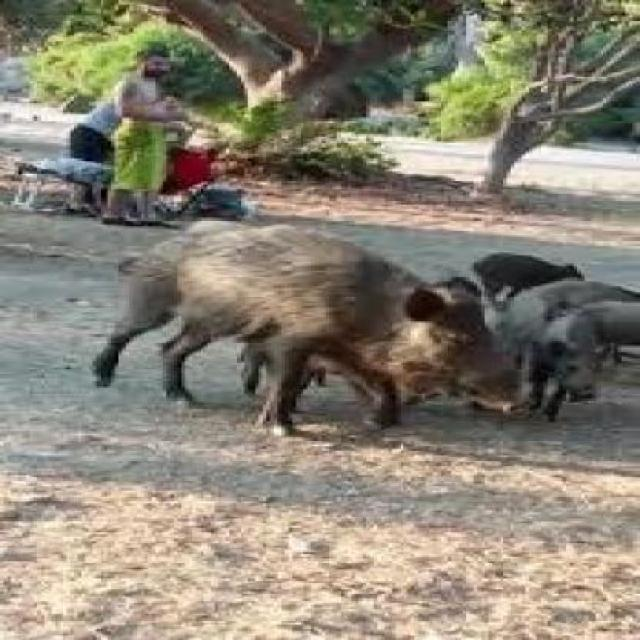wildboar: (80, 217, 534, 446), (452, 244, 640, 442)
